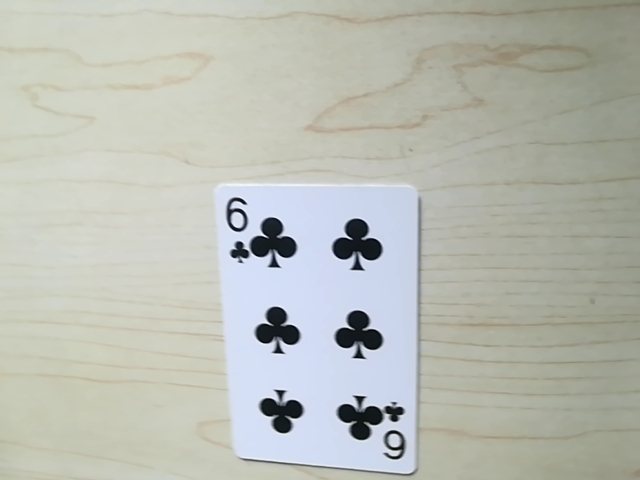mh 6: (218, 198, 256, 259), (375, 403, 410, 468)
